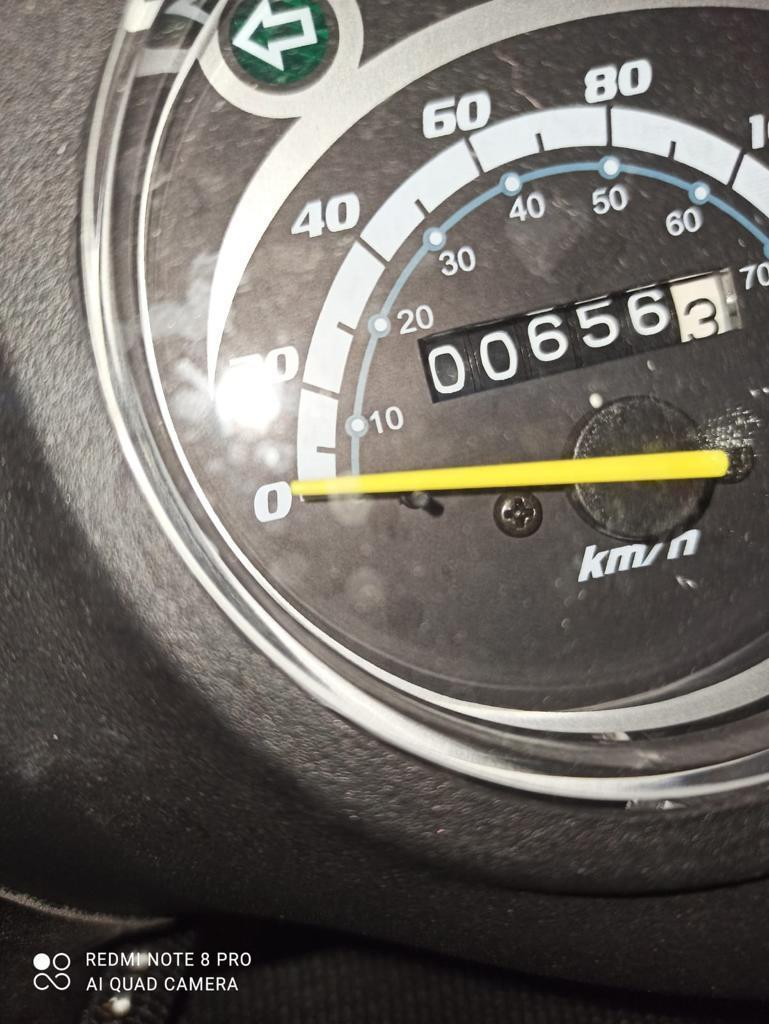0: (476, 326, 521, 383), (425, 340, 468, 397), (414, 303, 434, 329)
3: (680, 295, 722, 342)
5: (574, 298, 623, 351)
6: (524, 311, 571, 364), (626, 286, 673, 338)
odometer: (412, 262, 747, 407)
